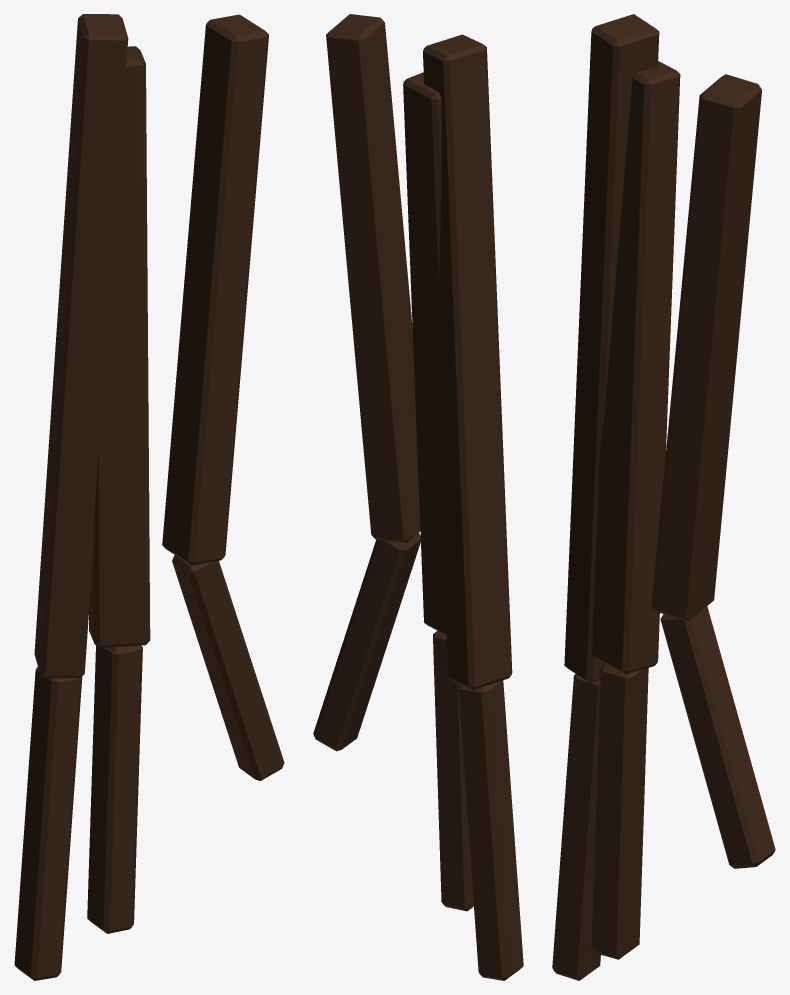
3 renders of one model, left to right at view 1: azimuth 30°, elevation 25°; view 2: azimuth 150°, elevation 25°; view 3: azimuth 330°, elevation 25°, orthographic. The views are drawn at different scales.
Visible parts, largest first — view 1: PT-wood_dark; view 2: PT-wood_dark; view 3: PT-wood_dark.
Boxes of the visible parts, box(x1,y1,x2,y2) form: PT-wood_dark: box(14, 14, 284, 980); PT-wood_dark: box(313, 14, 523, 980); PT-wood_dark: box(552, 14, 775, 980).
Bounding box in the file's own units: 0.1633 × 0.6461 × 0.0707.
